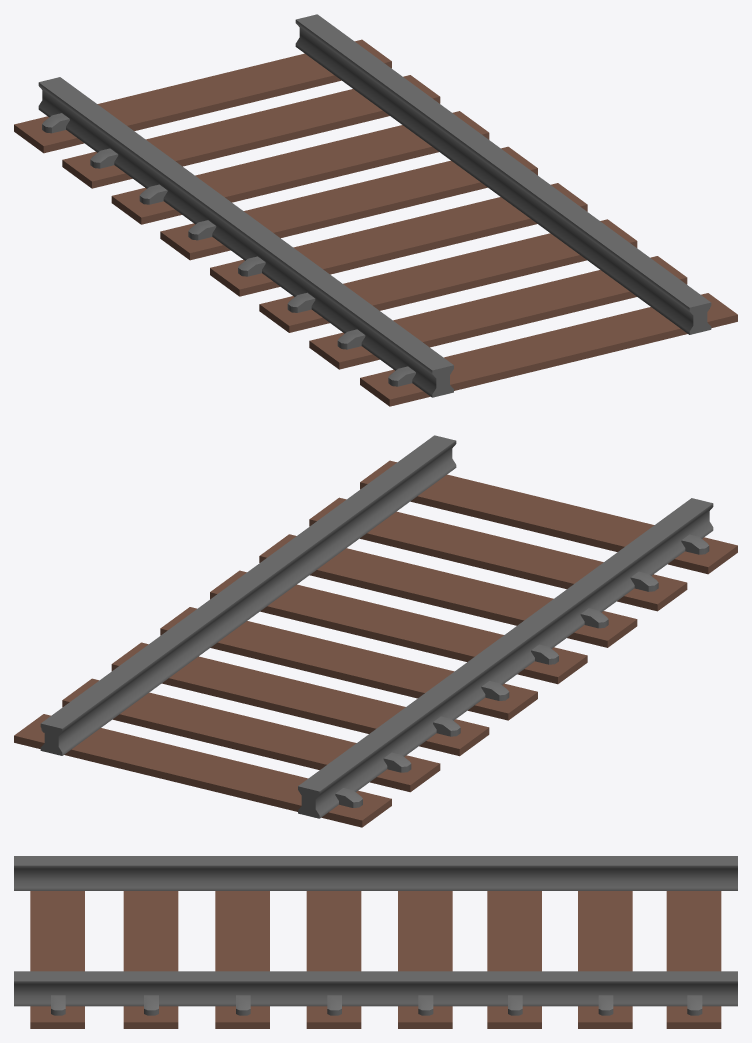
The model's file is Trilho_reto_longo.fbx.
3 views of the same model, one above another, from view 1: azimuth 30°, elevation 25°; view 2: azimuth 150°, elevation 25°; view 3: azimuth 270°, elevation 25° (orthographic). The views are drawn at different scales.
Visible parts, largest first — view 1: Trilho_reto_longo; view 2: Trilho_reto_longo; view 3: Trilho_reto_longo.
Boxes of the visible parts, box(x1,y1,x2,y2) form: Trilho_reto_longo: box(14, 14, 737, 406); Trilho_reto_longo: box(14, 435, 737, 827); Trilho_reto_longo: box(14, 856, 737, 1028).
Size of the model in its own units: 203 by 19.27 by 398.
